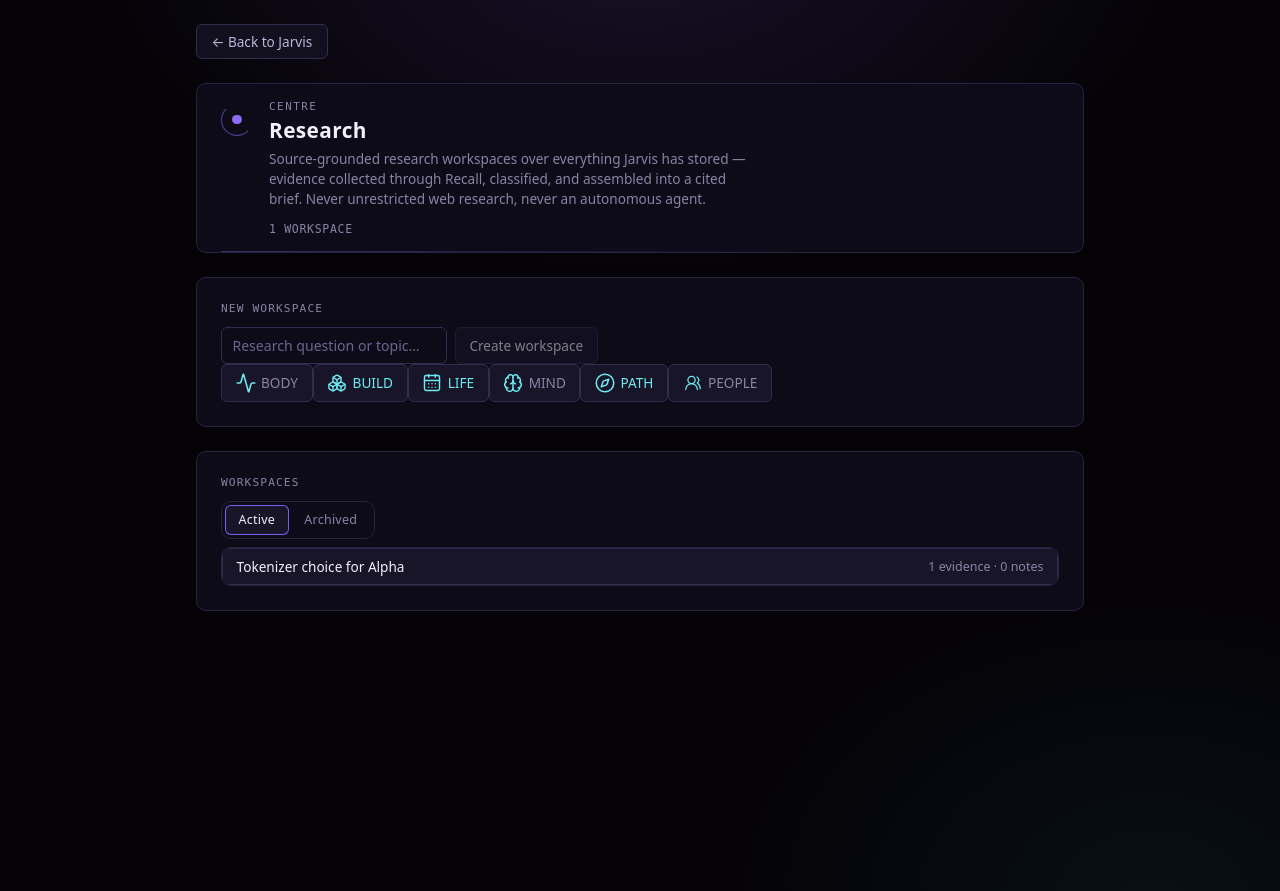
Test: ResearchCentre — workspace detail: briefs › generates a deterministic outline and renders its citations
The width and height of the screenshot is (1280, 891).
Click the text "Tokenizer choice for Alpha". click: point(321, 566)
box: [237, 556, 404, 576]
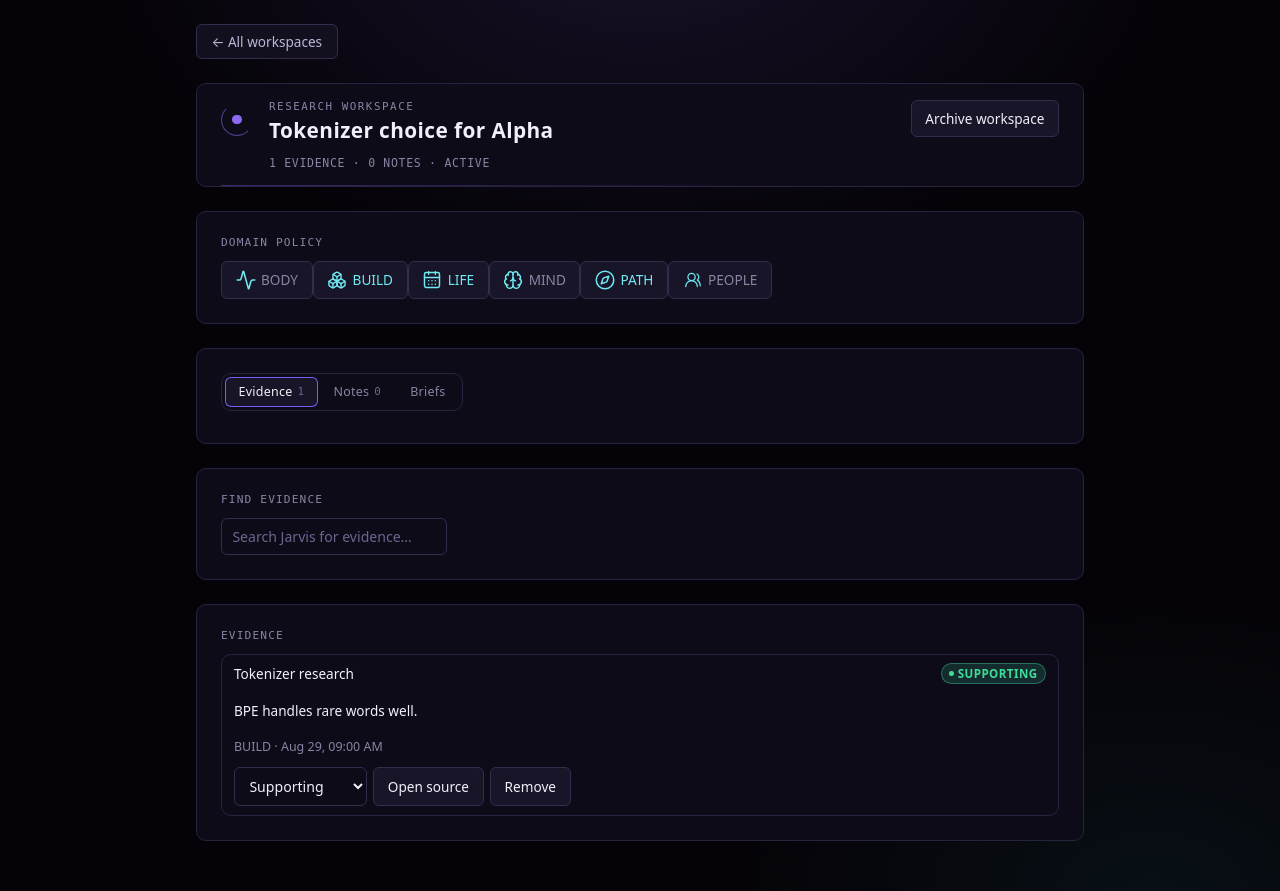
Click the radio button labelled "briefs". click: point(428, 392)
box: [410, 383, 446, 400]
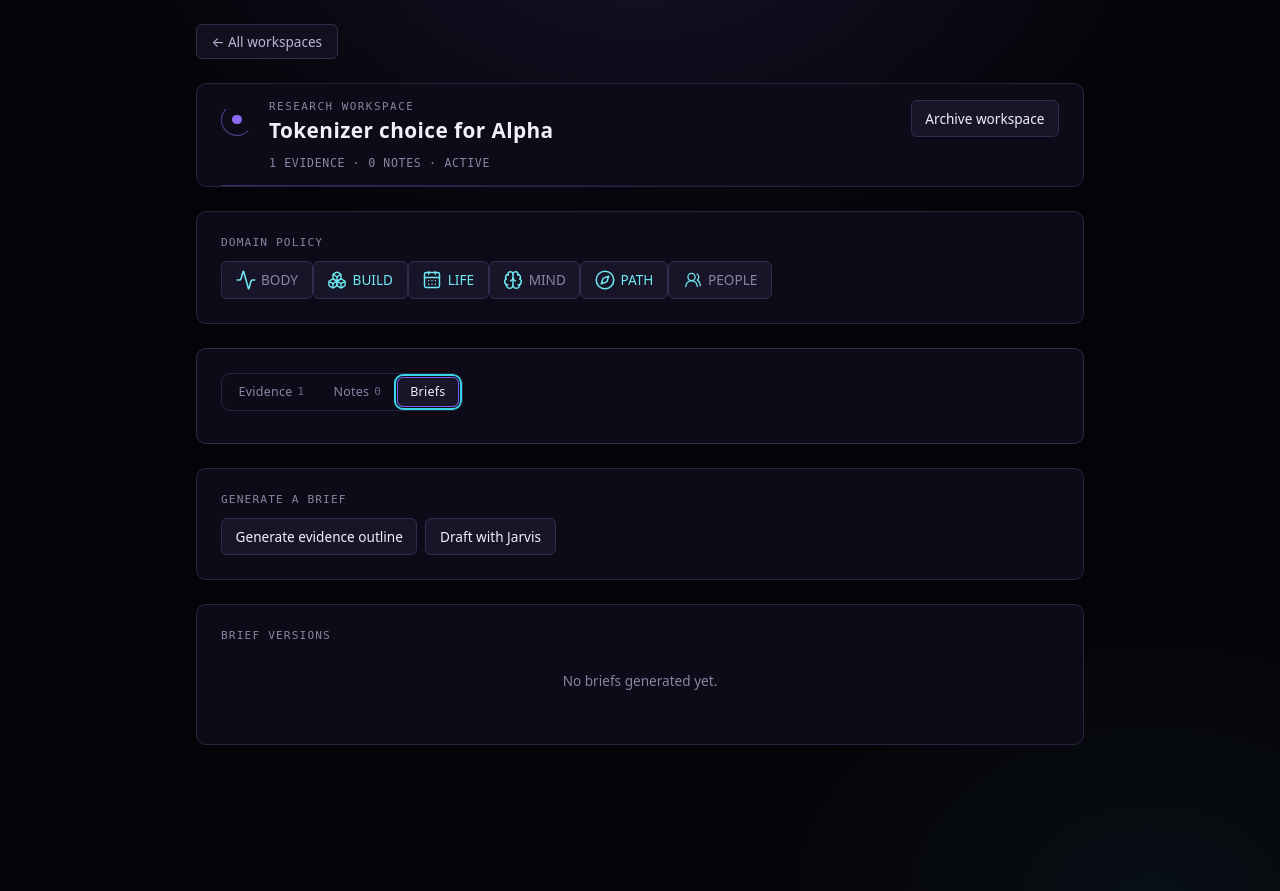
Click the button "Generate evidence outline". click: point(319, 536)
box: [221, 518, 418, 554]
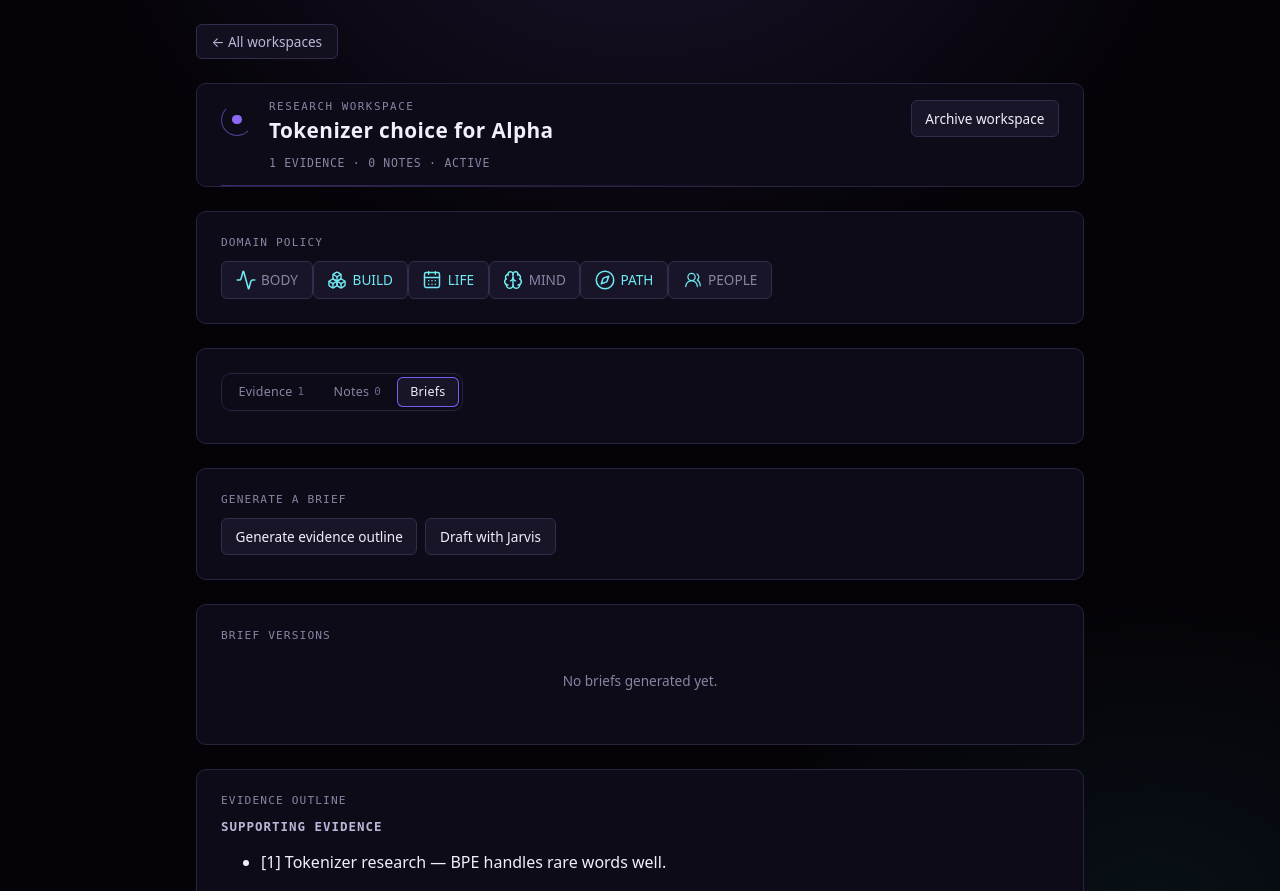
Expected: the heading "Supporting evidence" is shown, [221, 819, 383, 834]
Expected: the list item "[1] Tokenizer research — BPE handles rare words well." is shown, [261, 851, 666, 873]
